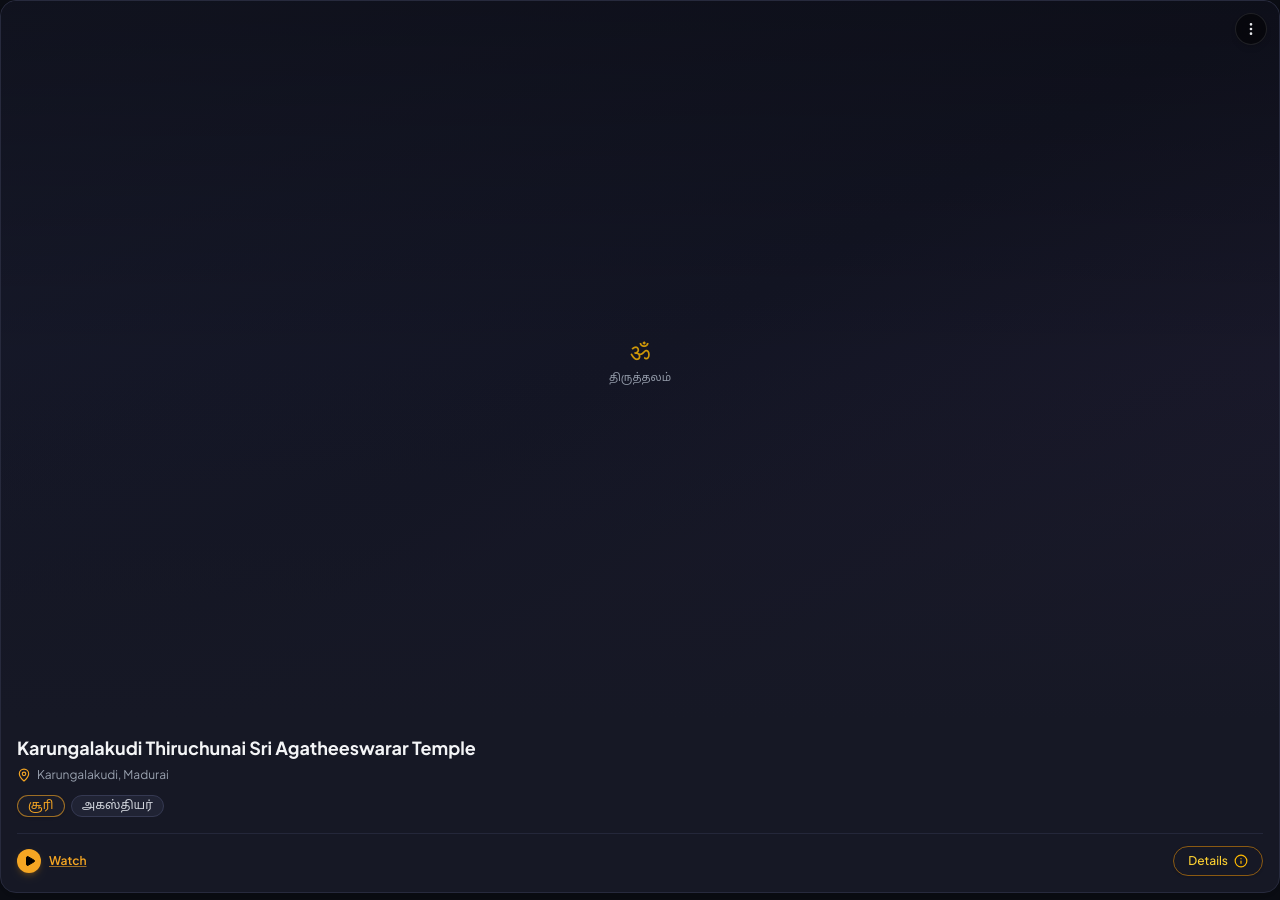
Scenario: Phase 2: TempleCard Admin Delete Menu › shows Delete Temple (Admin) option and triggers deleteTemple after inline confirmation
Later steps or results of the test are not shown.
Click the button named "More options" at (1251, 29), box [1235,13,1267,45]
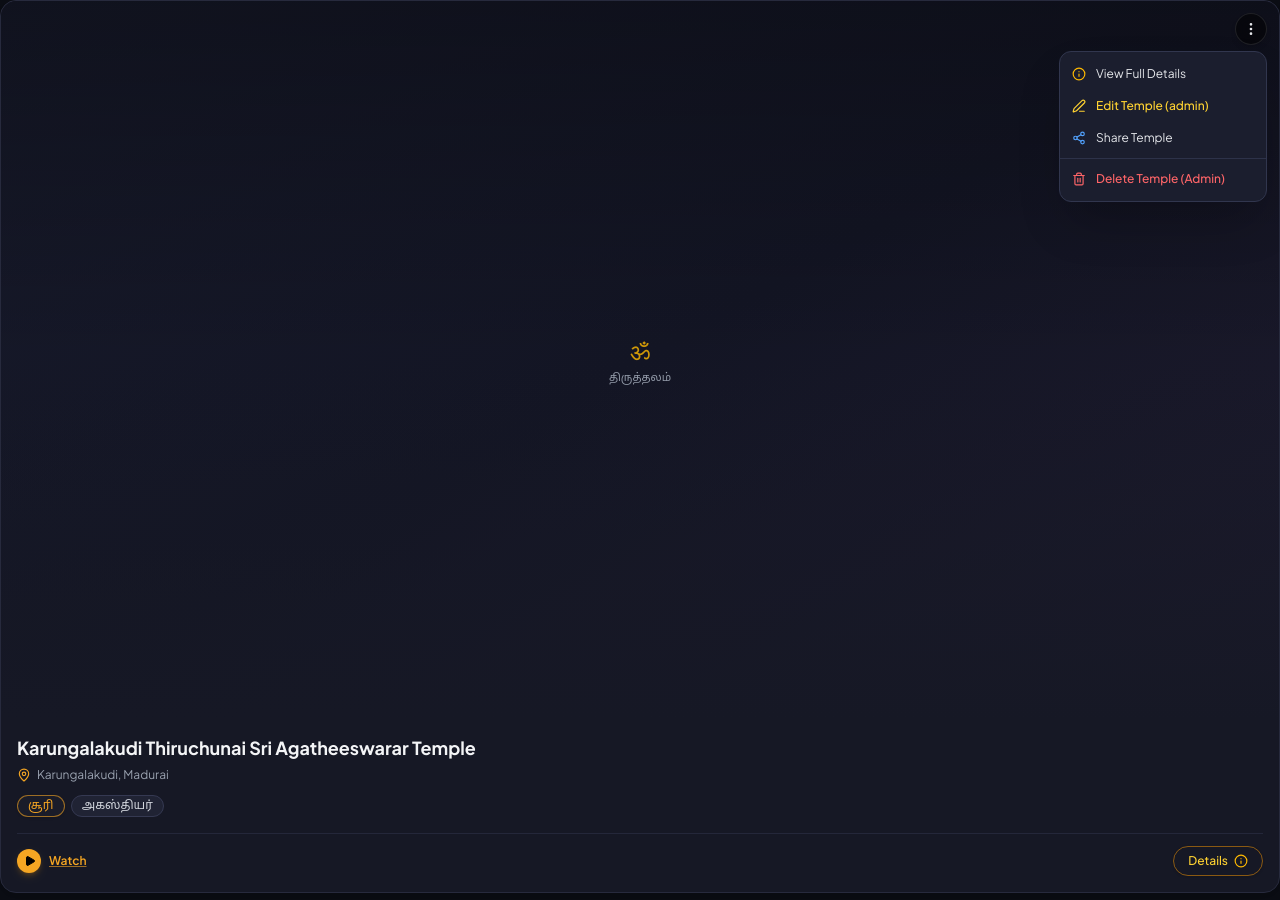
Expected: the button "Delete Temple (Admin)" is shown, [1060,163,1266,195]
